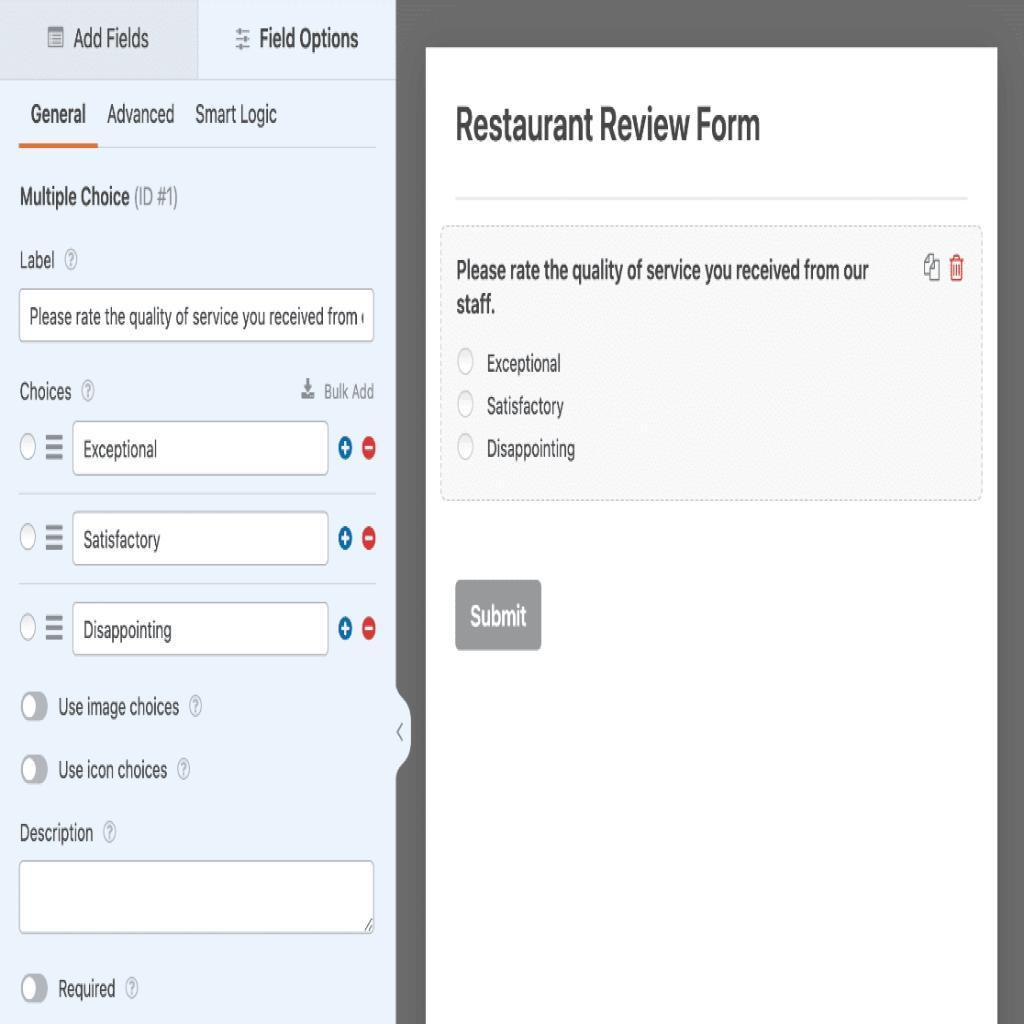button: (455, 581, 543, 652)
radio: (19, 520, 39, 554), (20, 431, 39, 465), (19, 613, 39, 642), (458, 387, 476, 419), (456, 348, 475, 377), (458, 431, 476, 459)
switch: (21, 969, 50, 1010), (23, 692, 49, 722), (23, 755, 49, 783)
